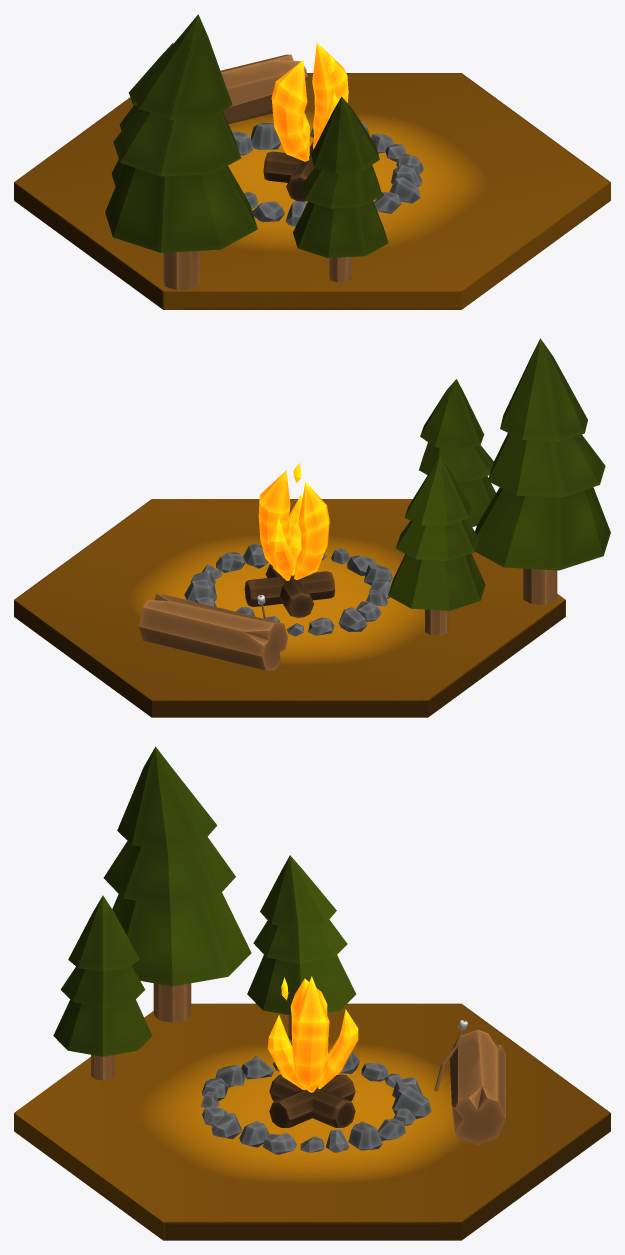
Rendered from campfire.glb.
3 views of the same model, one above another, from view 1: azimuth 30°, elevation 25°; view 2: azimuth 150°, elevation 25°; view 3: azimuth 270°, elevation 25° (orthographic). The views are drawn at different scales.
Parts seen in each view (by area): view 1: campfire; view 2: campfire; view 3: campfire.
Boxes of the visible parts, x1,y1,x2,y2 form: campfire: (14, 14, 610, 309); campfire: (14, 338, 610, 717); campfire: (14, 746, 610, 1240).
Size of the model in its own units: 43.22 by 24.36 by 45.29.
1 material, 1 textured.
